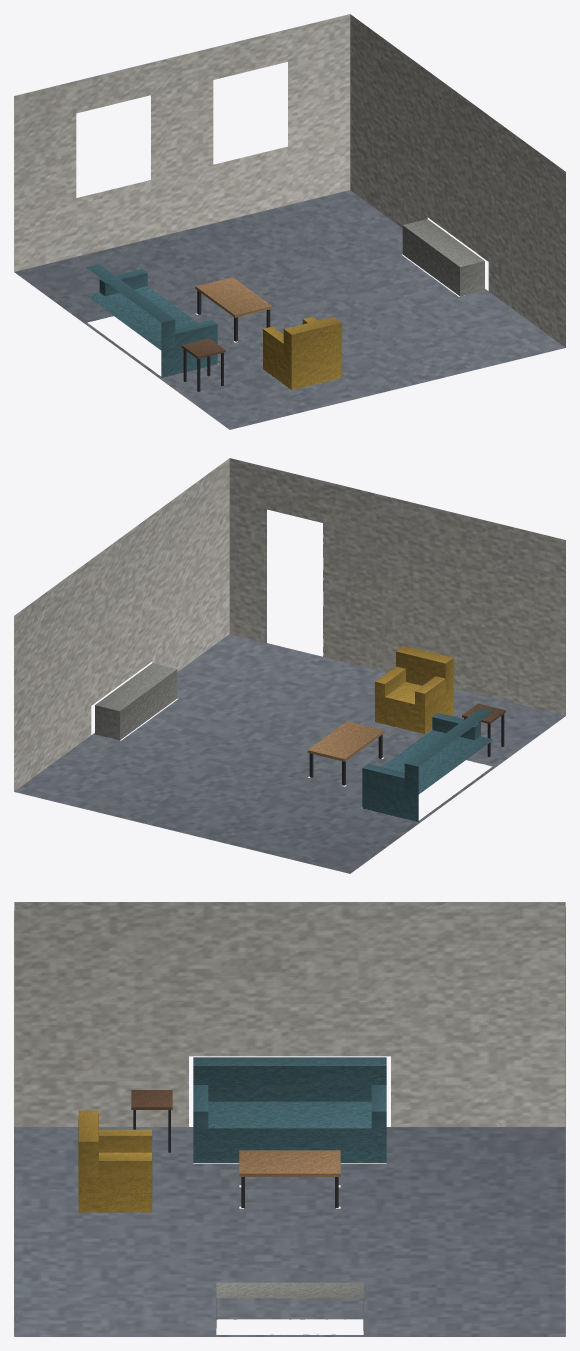
Rendered from main.glb.
3 renders of one model, top to bottom at view 1: azimuth 30°, elevation 25°; view 2: azimuth 150°, elevation 25°; view 3: azimuth 270°, elevation 25°, orthographic. The views are drawn at different scales.
Parts seen in each view (by area): view 1: Floor, North wall, East wall, Bench, Sofa base, Armchair base, Armchair back, Coffee table top, Sofa back, Sofa arms, Side table top, Armchair arms; view 2: Floor, South wall, East wall, Sofa base, Bench, Armchair base, Armchair back, Coffee table top, Sofa back, Sofa arms, Armchair arms; view 3: West wall, Floor, Sofa base, Sofa back, Armchair base, Coffee table top, Armchair arms, Bench, Armchair back, Sofa arms, Side table top.
Boxes of the visible parts, x1,y1,x2,y2 form: Floor: (14, 190, 565, 429); North wall: (14, 14, 350, 271); East wall: (350, 14, 565, 347); Bench: (402, 219, 484, 296); Sofa base: (86, 286, 217, 377); Armchair base: (263, 342, 341, 389); Armchair back: (283, 317, 341, 362); Coffee table top: (195, 277, 272, 317); Sofa back: (86, 264, 175, 350); Sofa arms: (99, 269, 217, 347); Side table top: (181, 338, 225, 358); Armchair arms: (263, 316, 317, 356); Floor: (14, 634, 565, 873); South wall: (229, 458, 565, 715); East wall: (14, 458, 229, 791); Sofa base: (362, 730, 493, 821); Bench: (95, 663, 177, 740); Armchair base: (375, 682, 453, 733); Armchair back: (396, 645, 453, 691); Coffee table top: (307, 721, 384, 761); Sofa back: (404, 708, 493, 794); Sofa arms: (362, 713, 480, 791); Armchair arms: (375, 666, 445, 706); West wall: (14, 902, 565, 1126); Floor: (14, 1127, 565, 1336); Sofa base: (193, 1101, 386, 1163); Sofa back: (193, 1057, 386, 1101); Armchair base: (78, 1152, 152, 1212); Coffee table top: (239, 1150, 340, 1176); Armchair arms: (98, 1129, 152, 1177); Bench: (216, 1282, 363, 1330); Armchair back: (78, 1110, 98, 1177); Sofa arms: (193, 1085, 386, 1128); Side table top: (131, 1090, 172, 1109).
Bounding box in the file's own units: 5.4 × 2.7 × 6.
17 materials, 17 textured.
